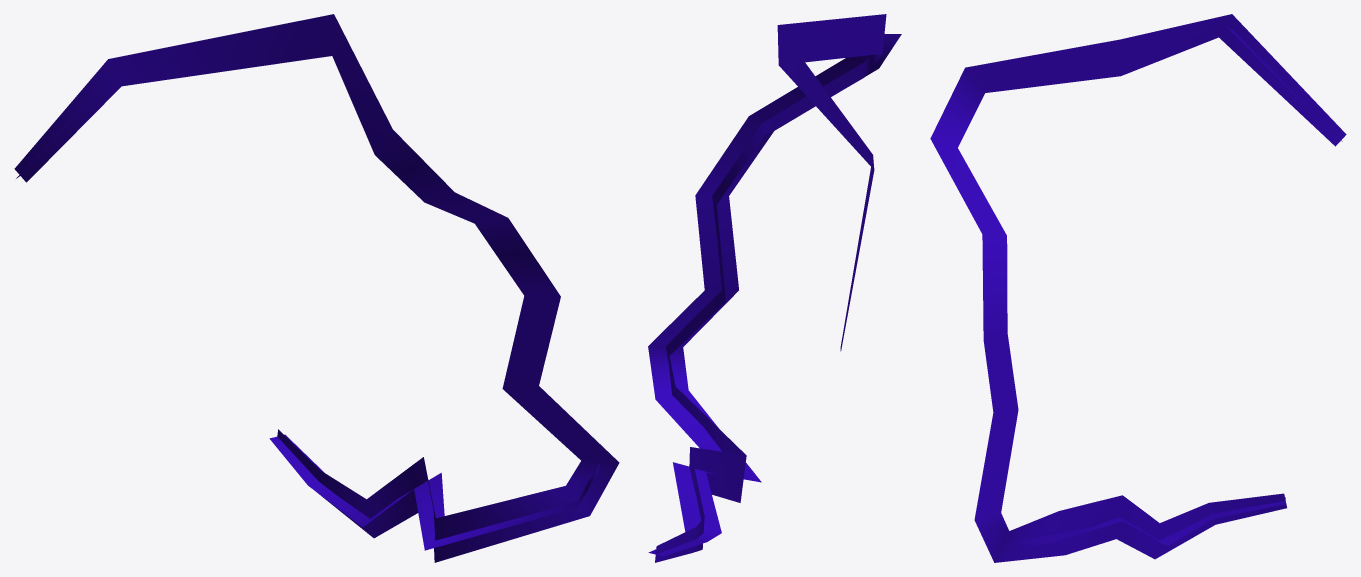
The model's file is SM_EFF_Lightning_B_01.mo.fbx.
3 renders of one model, left to right at view 1: azimuth 30°, elevation 25°; view 2: azimuth 150°, elevation 25°; view 3: azimuth 270°, elevation 25°, orthographic. The views are drawn at different scales.
Visible parts, largest first — view 1: SM_EFF_Lightning_B_01.mo; view 2: SM_EFF_Lightning_B_01.mo; view 3: SM_EFF_Lightning_B_01.mo.
Boxes of the visible parts, <box> form: SM_EFF_Lightning_B_01.mo: <box>14,14,619,562</box>; SM_EFF_Lightning_B_01.mo: <box>648,14,901,562</box>; SM_EFF_Lightning_B_01.mo: <box>930,14,1346,562</box>.
Size of the model in its own units: 1.88 by 2.48 by 1.89.
